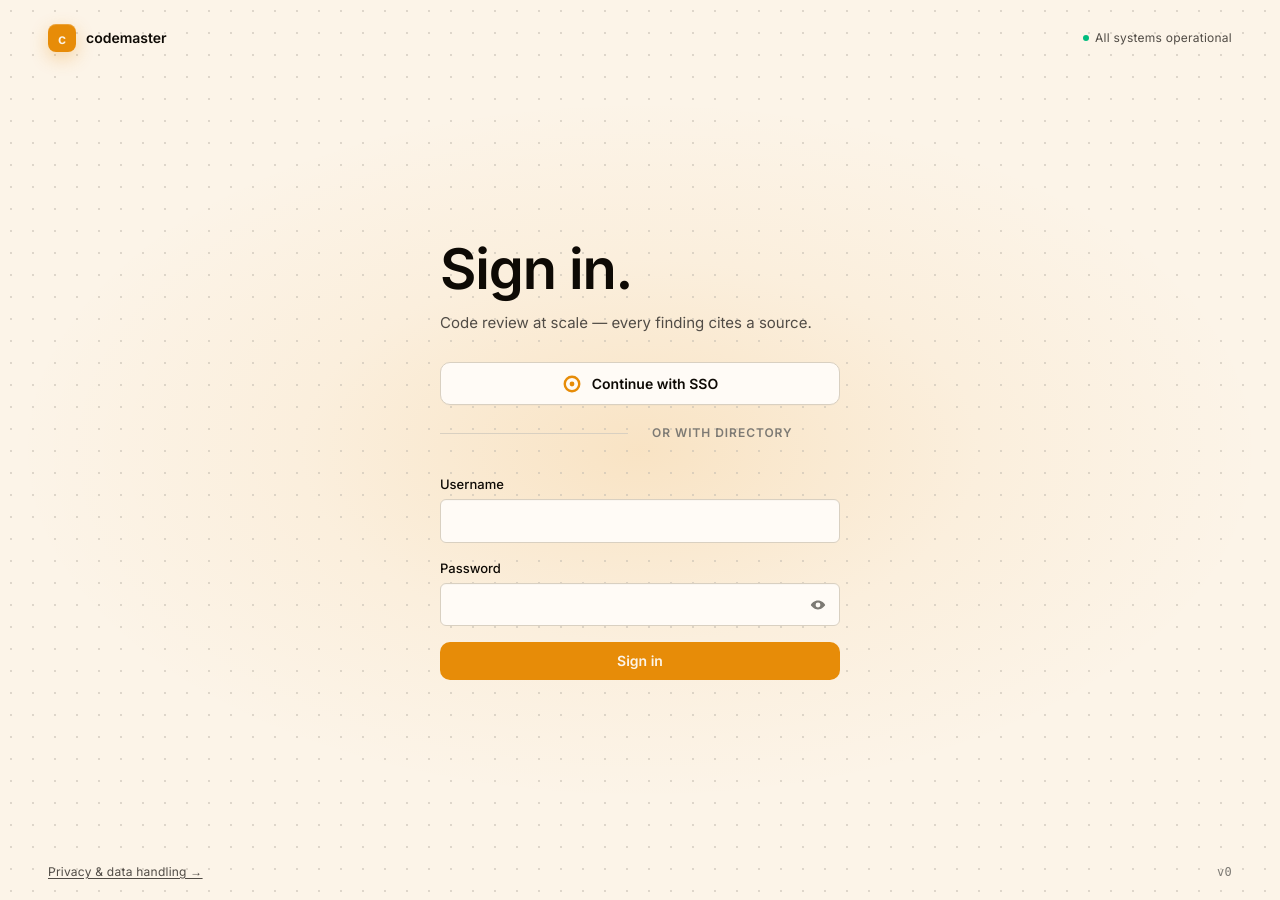
Test case: LoginPage affordances (X.2) › SSO button is a visual stub — click surfaces sso_failed banner
Click the button "Continue with SSO": (640, 384) [440,362,840,406]
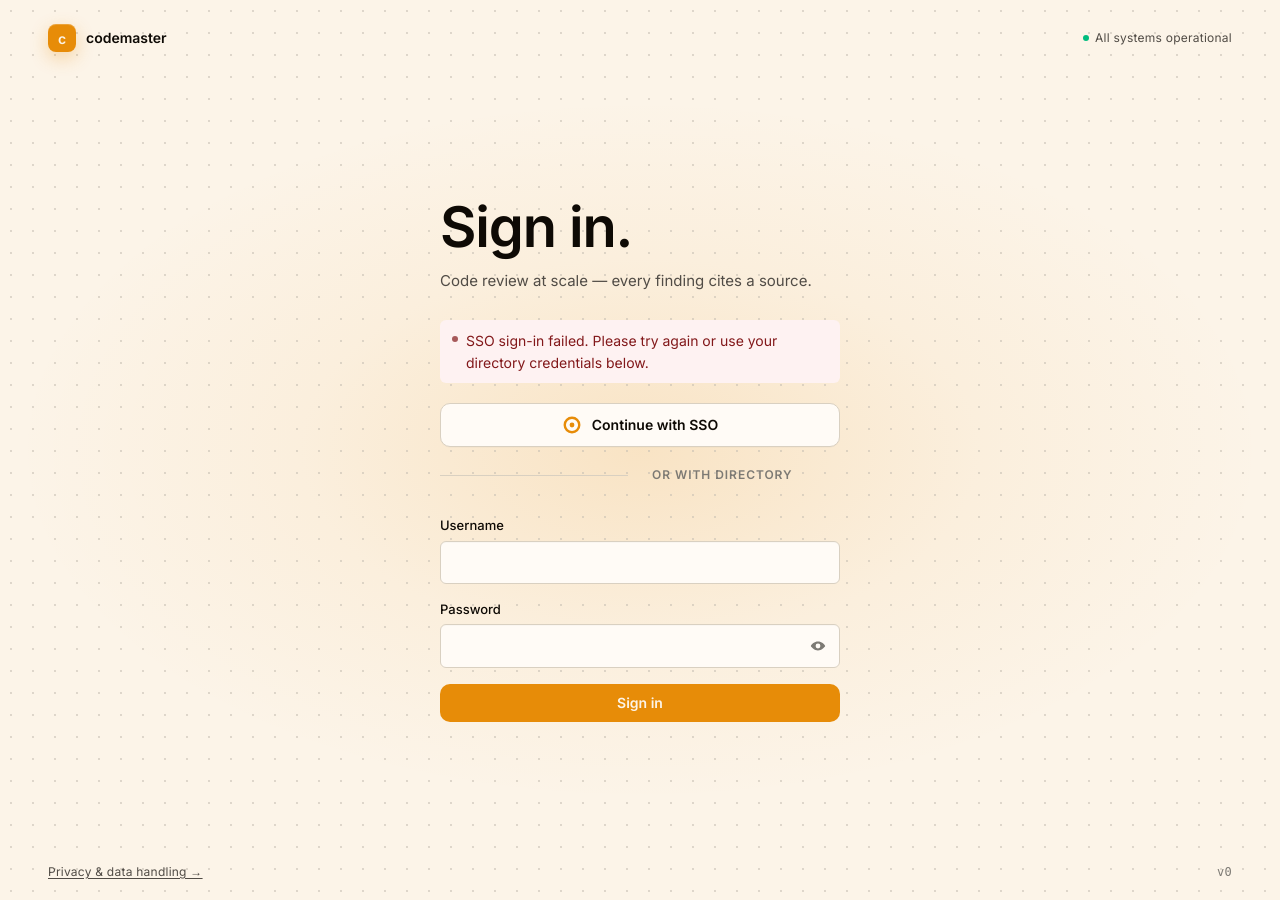
Result: the message shows "SSO" at [466,332,777,371]
